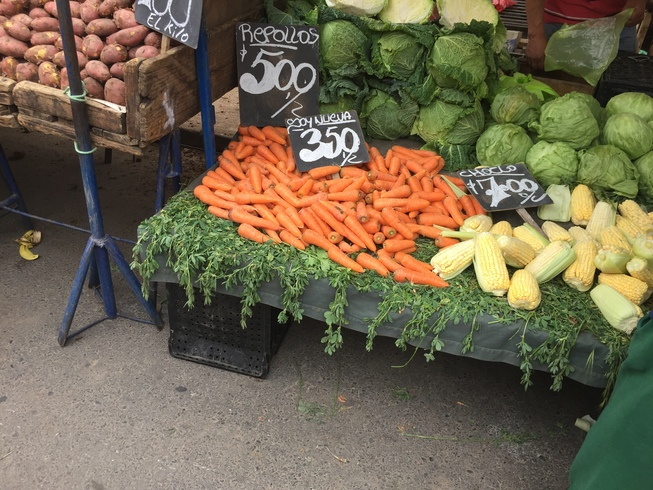precio: (234, 17, 330, 133), (454, 154, 558, 221), (282, 106, 370, 180)
